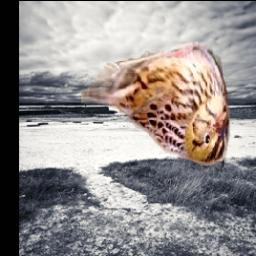Sparrow: (81, 42, 230, 166)
